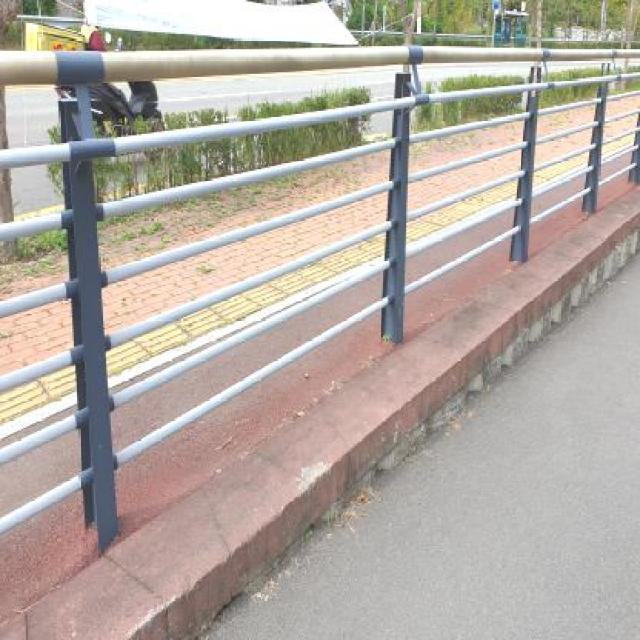fence: (0, 38, 366, 528), (382, 33, 636, 329)
